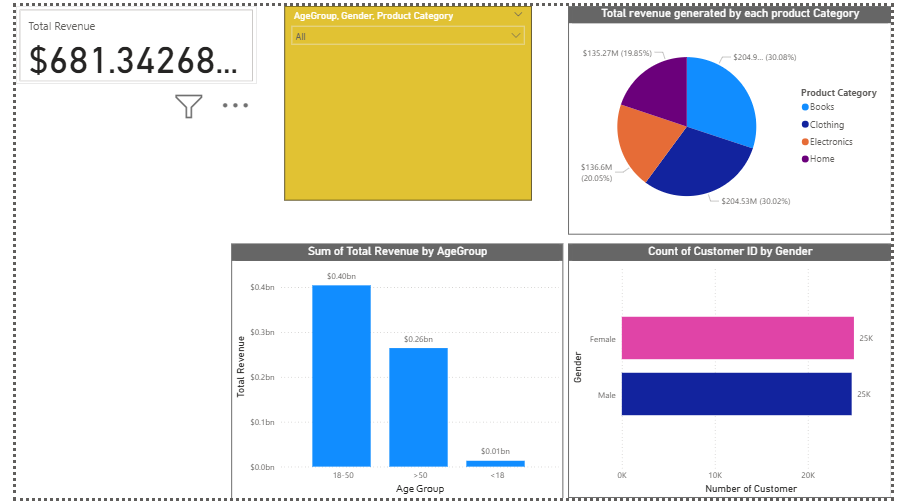

The dashboard page shown, as its layout file describes it:
{"tool":"powerbi","page":{"name":"Customer Overview","canvas":[1280,720],"ordinal":0},"visuals":[{"type":"cardVisual","fields":{"Data":["Sum(ecommerce_cleaned_for_powerbi.Total_Amount)"]},"box":[0,0,351.6,115.2],"z":0},{"type":"clusteredColumnChart","title":"Sum of Total Revenue by AgeGroup","fields":{"Category":["ecommerce_cleaned_for_powerbi.AgeGroup"],"Y":["Sum(ecommerce_cleaned_for_powerbi.Total_Amount)"]},"box":[313.8,347.6,484.6,373.4],"z":1000},{"type":"clusteredBarChart","fields":{"Category":["ecommerce_cleaned_for_powerbi.Gender"],"Y":["Count(ecommerce_cleaned_for_powerbi.Customer ID)"]},"box":[806.4,347.6,472.7,371.4],"z":2000},{"type":"pieChart","title":"Total revenue generated by each product Category","fields":{"Category":["ecommerce_cleaned_for_powerbi.Product Category"],"Y":["Sum(ecommerce_cleaned_for_powerbi.Total_Amount)"]},"box":[806.4,0,472.7,333.7],"z":2001},{"type":"slicer","fields":{"Values":["ecommerce_cleaned_for_powerbi.AgeGroup","ecommerce_cleaned_for_powerbi.Gender","ecommerce_cleaned_for_powerbi.Product Category"]},"box":[391.3,0,361.5,284],"z":2002}]}

Visuals, with their boxes in screenshot pixels (x1, y1, x2, y2), scaled from the page's 1280x720 canvas onto the 902x504 screenshot:
cardVisual - Sum(ecommerce_cleaned_for_powerbi.Total_Amount): <box>0,0,248,81</box>
"Sum of Total Revenue by AgeGroup" clusteredColumnChart: <box>221,243,563,503</box>
clusteredBarChart - ecommerce_cleaned_for_powerbi.Gender x Count(ecommerce_cleaned_for_powerbi.Customer ID): <box>568,243,901,503</box>
"Total revenue generated by each product Category" pieChart: <box>568,0,901,234</box>
slicer - ecommerce_cleaned_for_powerbi.AgeGroup x ecommerce_cleaned_for_powerbi.Gender: <box>276,0,530,199</box>
